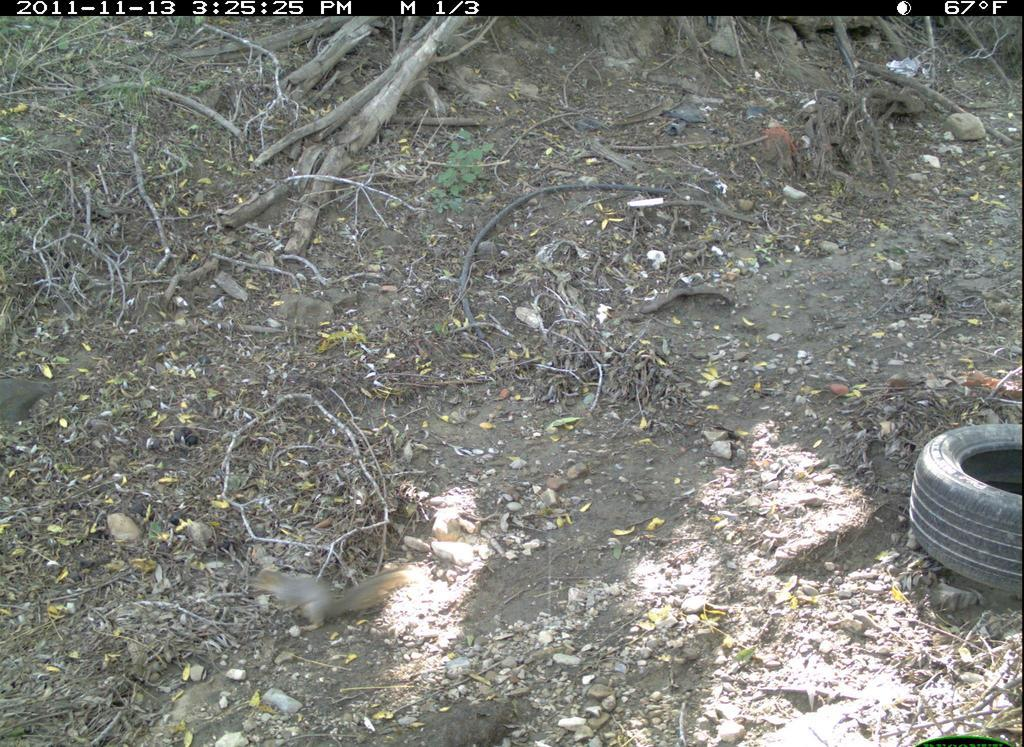squirrel: (247, 549, 417, 639)
